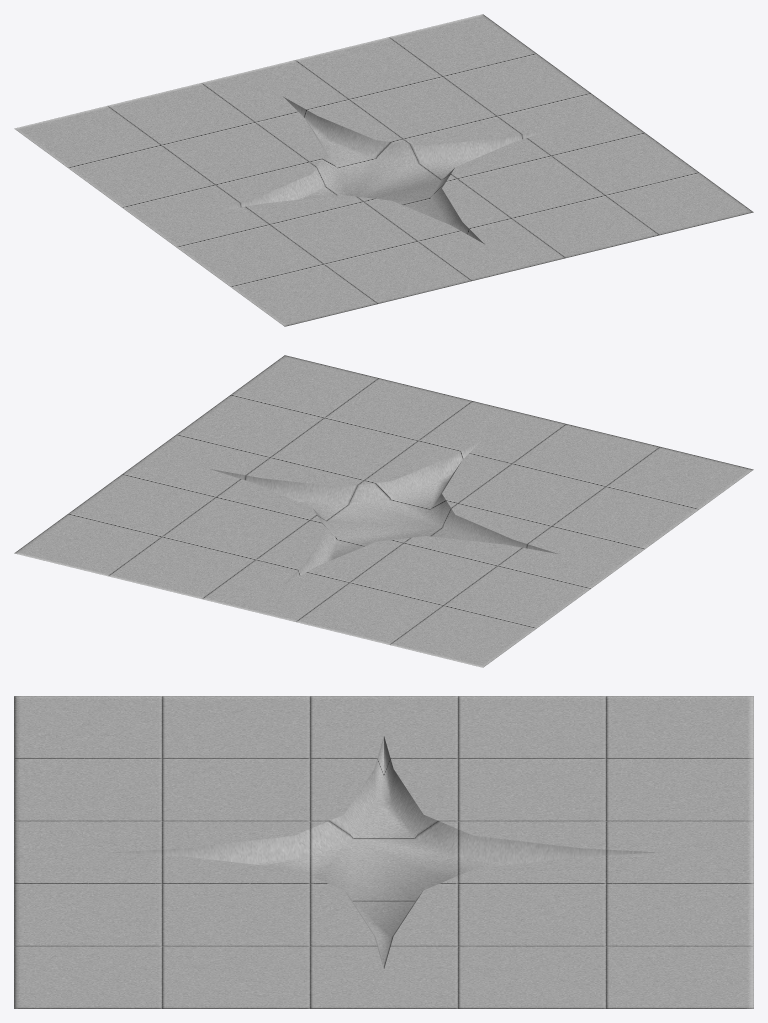
File: Tileset Placeholder Floor 3.FBX
3 views of the same model, one above another, from view 1: azimuth 30°, elevation 25°; view 2: azimuth 150°, elevation 25°; view 3: azimuth 270°, elevation 25° (orthographic). The views are drawn at different scales.
Parts seen in each view (by area): view 1: Floor 3; view 2: Floor 3; view 3: Floor 3.
Boxes of the visible parts, bbox=[...] form: Floor 3: bbox=[14, 14, 753, 326]; Floor 3: bbox=[14, 355, 753, 667]; Floor 3: bbox=[14, 696, 753, 1008].
Bounding box in the file's own units: 2.54 × 0.0667 × 2.54.
1 material, 1 textured.
